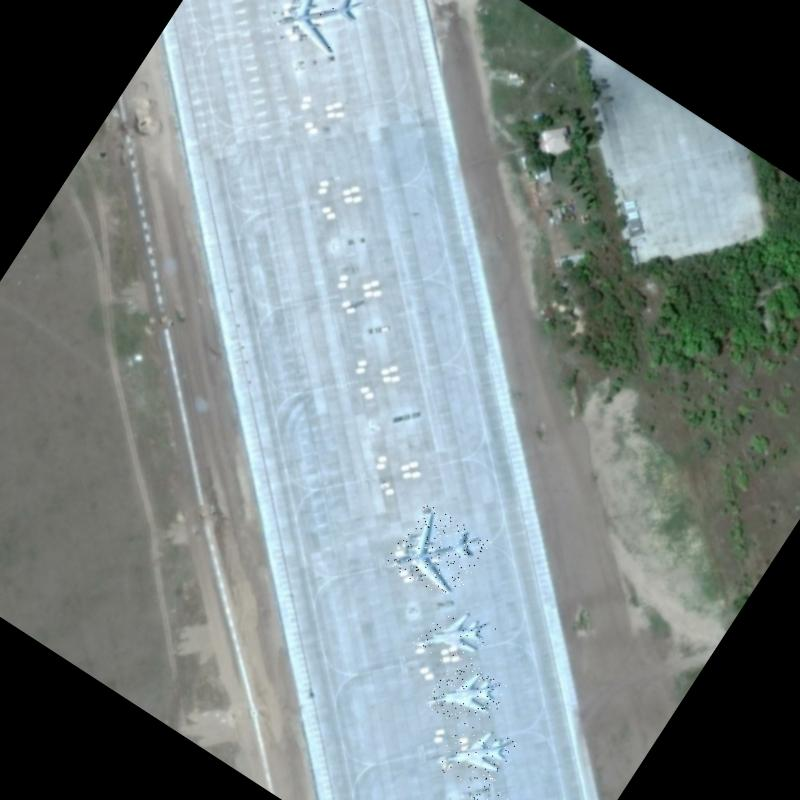A12: (423, 653, 511, 740), (432, 712, 518, 798), (411, 594, 496, 680), (446, 779, 535, 800)
A17: (385, 500, 491, 606), (270, 0, 371, 66)
